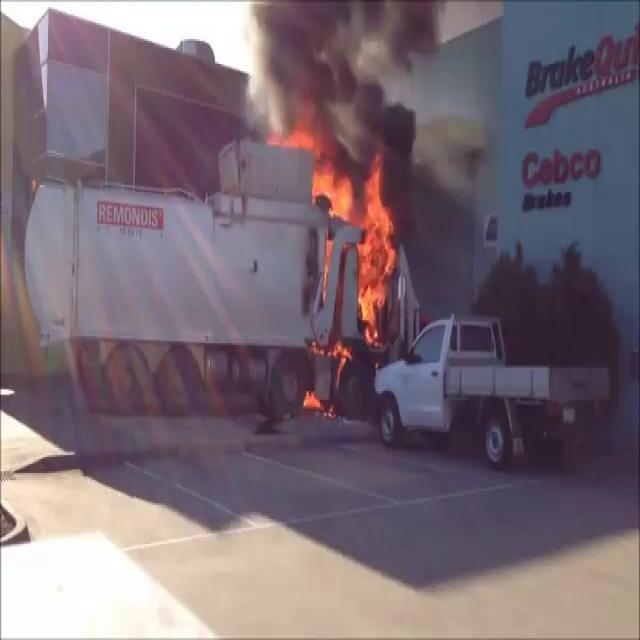Fire: (311, 151, 401, 340), (310, 154, 356, 222), (301, 380, 324, 414)
Smoke: (240, 1, 474, 163)
